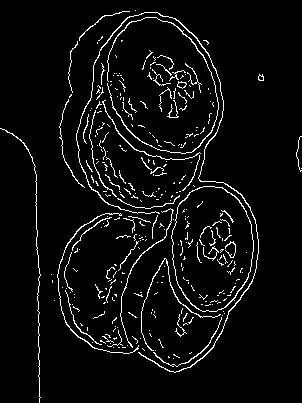cucumber: (94, 7, 226, 159), (47, 210, 146, 351), (166, 181, 258, 314)
